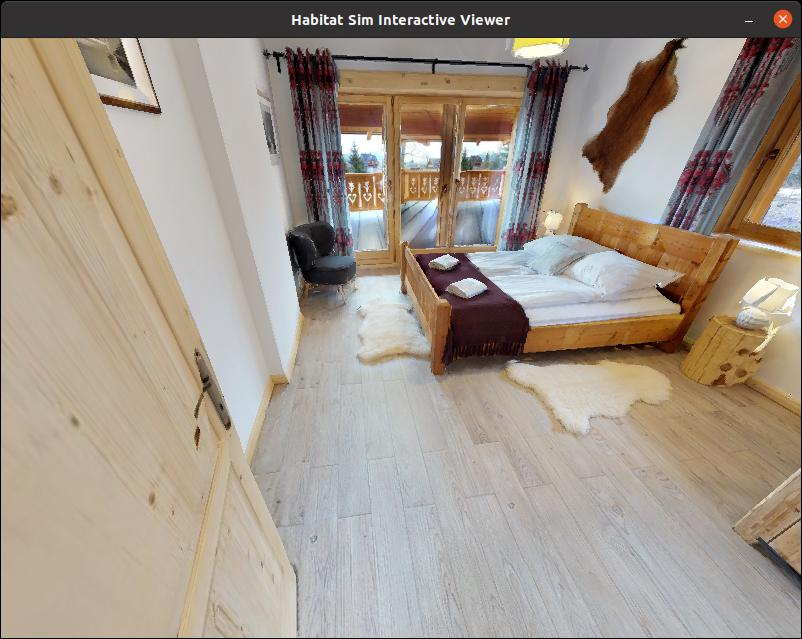bed: (385, 185, 741, 371)
